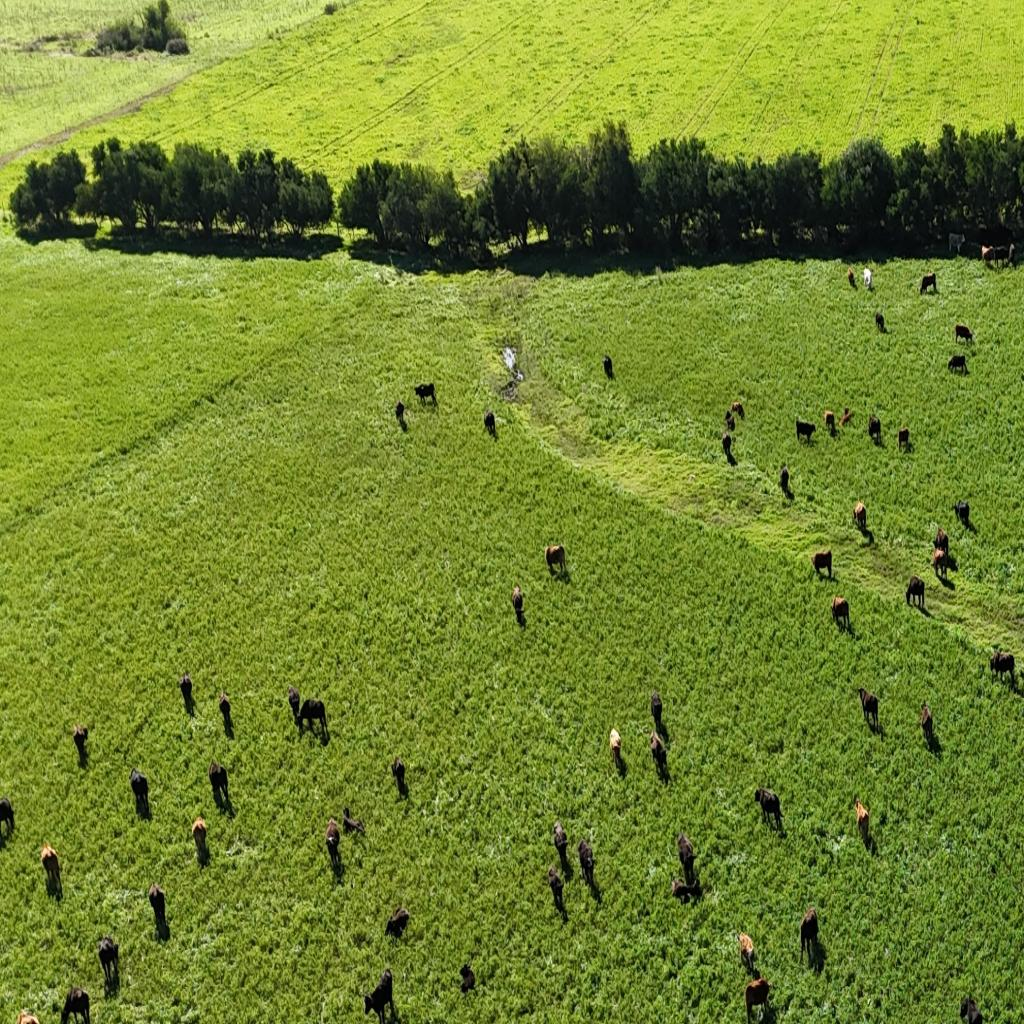cow: (738, 934, 770, 1022), (363, 967, 396, 1022), (293, 696, 332, 739), (56, 980, 92, 1024), (97, 931, 120, 989), (931, 526, 954, 584), (754, 786, 782, 831), (676, 836, 698, 892), (40, 841, 62, 893), (325, 815, 344, 875), (799, 908, 819, 964), (129, 767, 150, 813), (148, 884, 167, 933), (650, 731, 669, 778), (858, 688, 879, 730), (341, 807, 366, 842), (577, 838, 595, 886), (208, 758, 228, 801), (385, 906, 410, 939), (855, 794, 871, 844), (548, 864, 565, 911), (737, 931, 755, 975), (216, 688, 235, 728), (192, 816, 209, 860), (905, 576, 926, 611), (545, 542, 567, 575), (831, 596, 850, 632), (553, 820, 568, 865), (960, 996, 984, 1024), (414, 380, 437, 408), (178, 672, 194, 712), (286, 686, 302, 726), (811, 548, 833, 577), (0, 796, 15, 838), (920, 700, 934, 742), (391, 758, 407, 794), (610, 726, 624, 766), (994, 651, 1014, 679), (650, 688, 664, 727), (72, 723, 87, 759), (796, 418, 816, 445), (954, 322, 975, 346), (458, 963, 474, 993), (953, 500, 970, 528), (513, 580, 526, 616), (948, 230, 968, 253), (836, 405, 853, 430), (948, 354, 967, 376), (15, 1008, 41, 1024), (1008, 242, 1024, 268), (933, 528, 950, 552), (985, 244, 1001, 268), (994, 244, 1009, 269), (854, 501, 866, 531), (921, 272, 937, 294), (862, 264, 874, 292), (982, 245, 996, 268), (780, 463, 790, 495), (870, 415, 882, 441), (856, 798, 868, 824), (897, 428, 910, 451), (394, 400, 406, 424), (603, 354, 614, 378), (486, 410, 497, 434), (824, 410, 836, 432), (724, 411, 735, 432), (979, 240, 990, 261), (722, 433, 732, 456), (875, 310, 885, 332), (733, 402, 744, 419), (1017, 241, 1024, 267), (847, 267, 856, 287)
